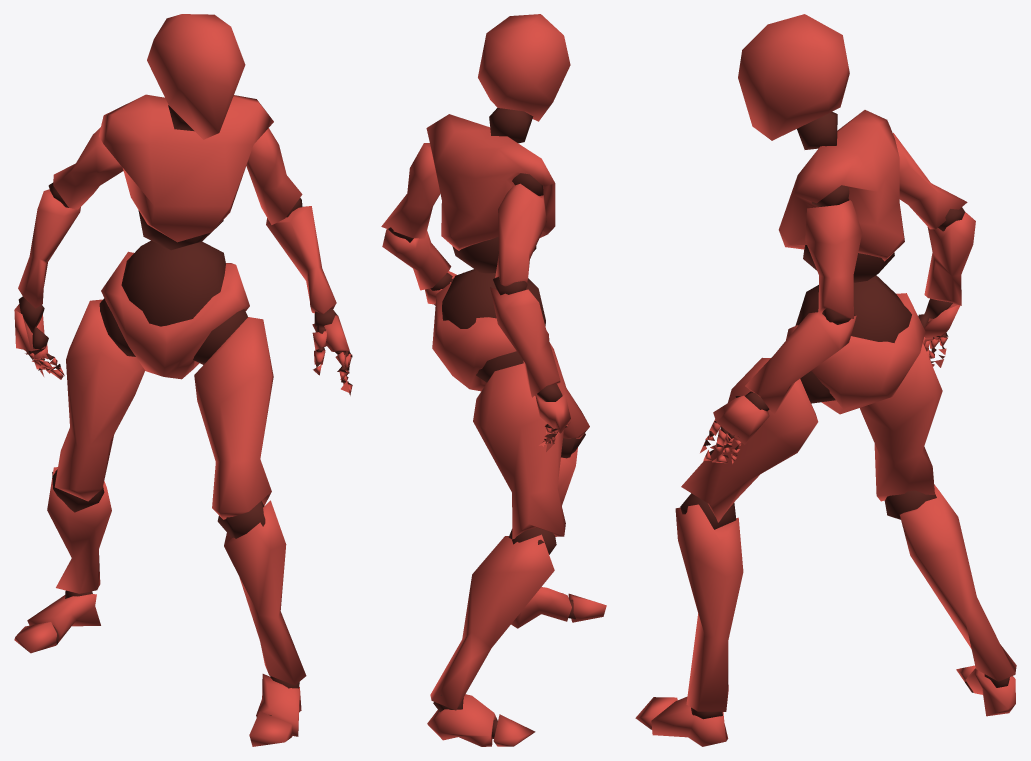
3 renders of one model, left to right at view 1: azimuth 30°, elevation 25°; view 2: azimuth 150°, elevation 25°; view 3: azimuth 270°, elevation 25°, orthographic. The views are drawn at different scales.
Parts seen in each view (by area): view 1: Beta_Surface; view 2: Beta_Surface; view 3: Beta_Surface.
Boxes of the visible parts, x1=… form: Beta_Surface: x1=14, y1=14, x2=352, y2=746; Beta_Surface: x1=381, y1=14, x2=606, y2=746; Beta_Surface: x1=635, y1=14, x2=1016, y2=746.
Bounding box in the file's own units: 5.36 × 14.63 × 7.2.
